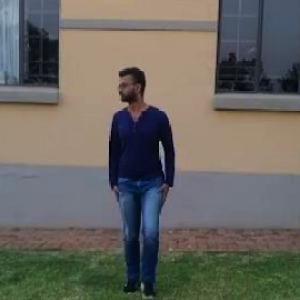follow: (100, 57, 179, 299)
